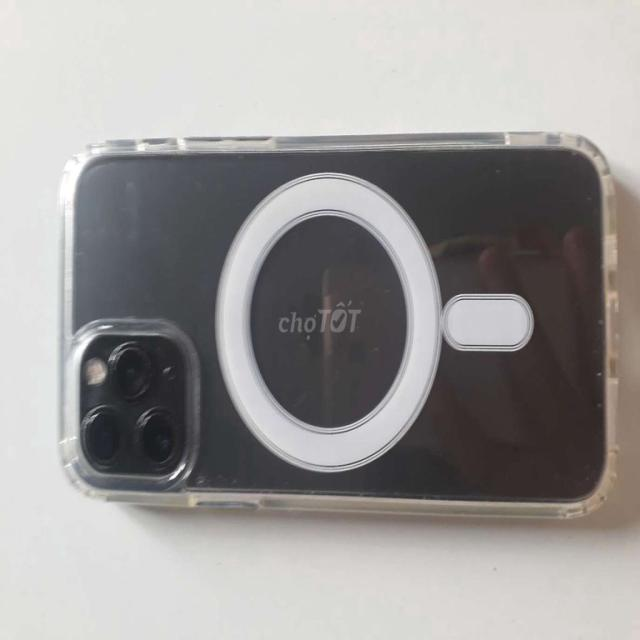gen_11: (36, 128, 626, 532)
